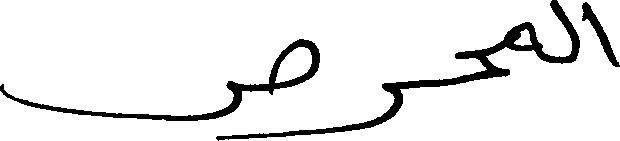X: (0, 34, 319, 140), (455, 27, 507, 89), (582, 0, 619, 71), (550, 0, 577, 68), (371, 77, 403, 131), (509, 17, 536, 79)
